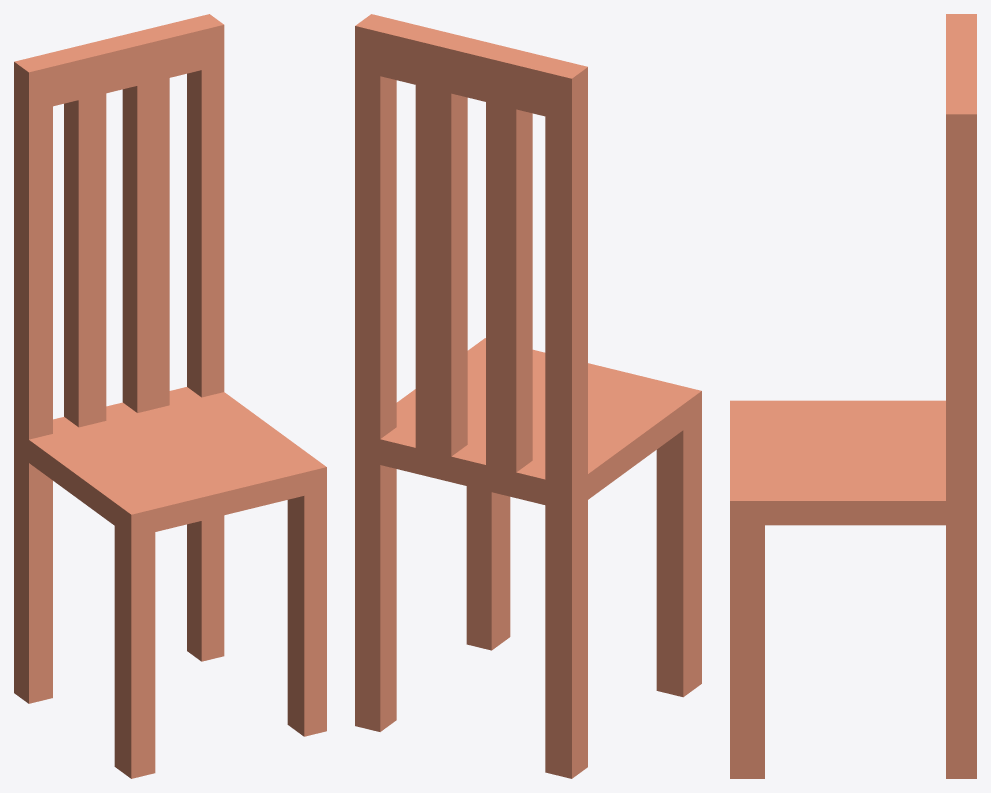
File: chair.fbx
3 renders of one model, left to right at view 1: azimuth 30°, elevation 25°; view 2: azimuth 150°, elevation 25°; view 3: azimuth 270°, elevation 25°, orthographic. The views are drawn at different scales.
Visible parts, largest first — view 1: Cube; view 2: Cube; view 3: Cube.
Boxes of the visible parts, box(x1,y1,x2,y2) form: Cube: box(14, 14, 326, 778); Cube: box(355, 14, 701, 778); Cube: box(730, 14, 976, 778).
Size of the model in its own units: 263 by 811 by 273.
